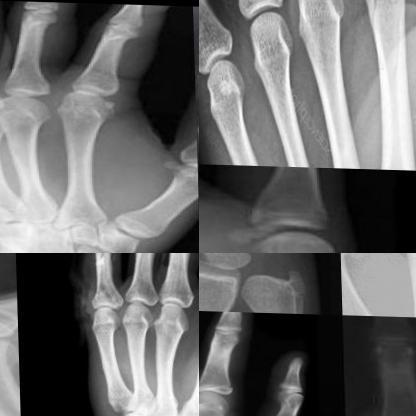fracture: (273, 264, 313, 308)
